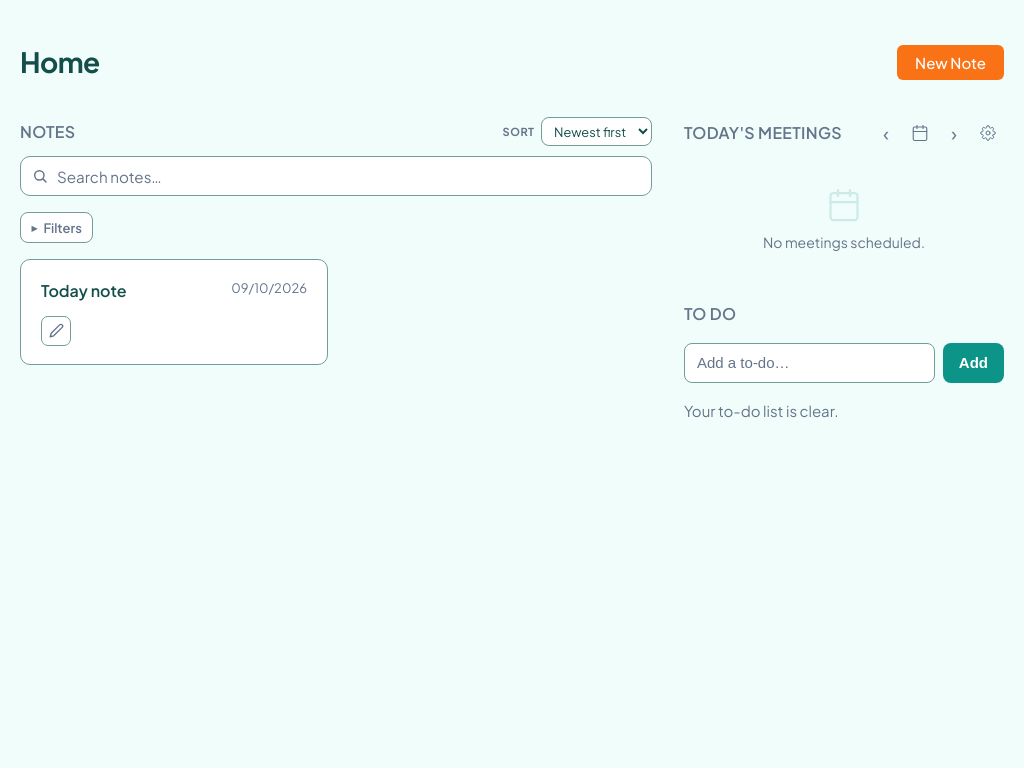
Scenario: 40-B — month grouping › does not group when sorted by title, even across a wide range
This screenshot has width=1024, height=768.
Click the button "▸ Filters": (57, 228) [20,212,93,243]
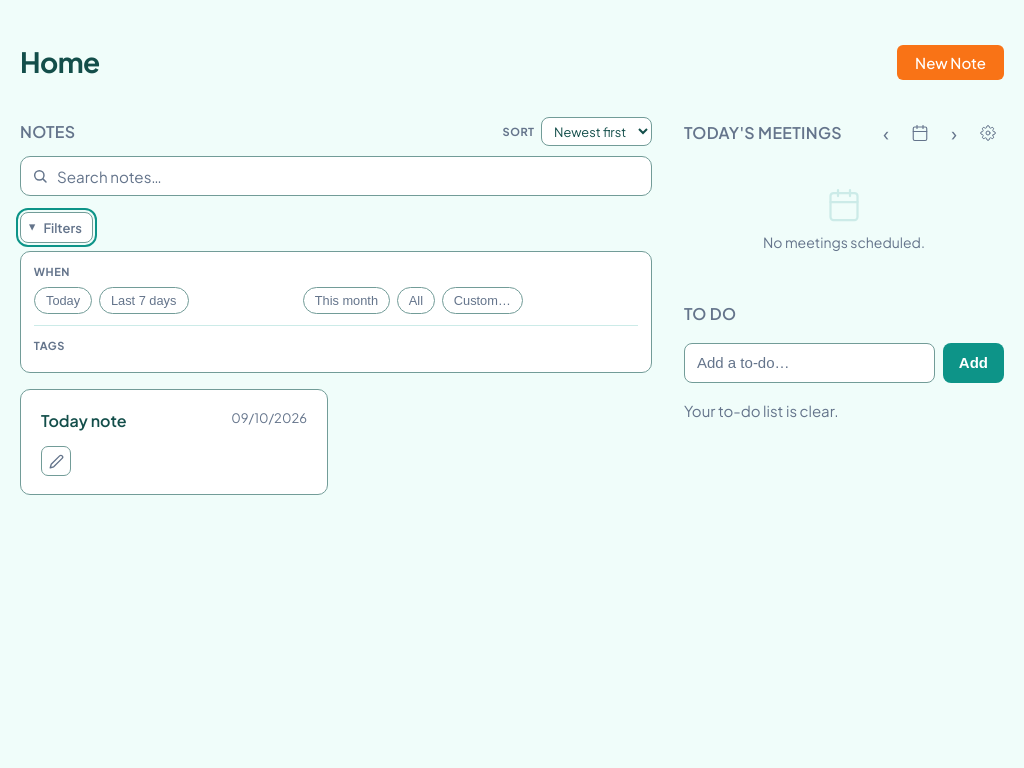
Click the button with test id "range-preset-all": (416, 300) [397,287,435,314]
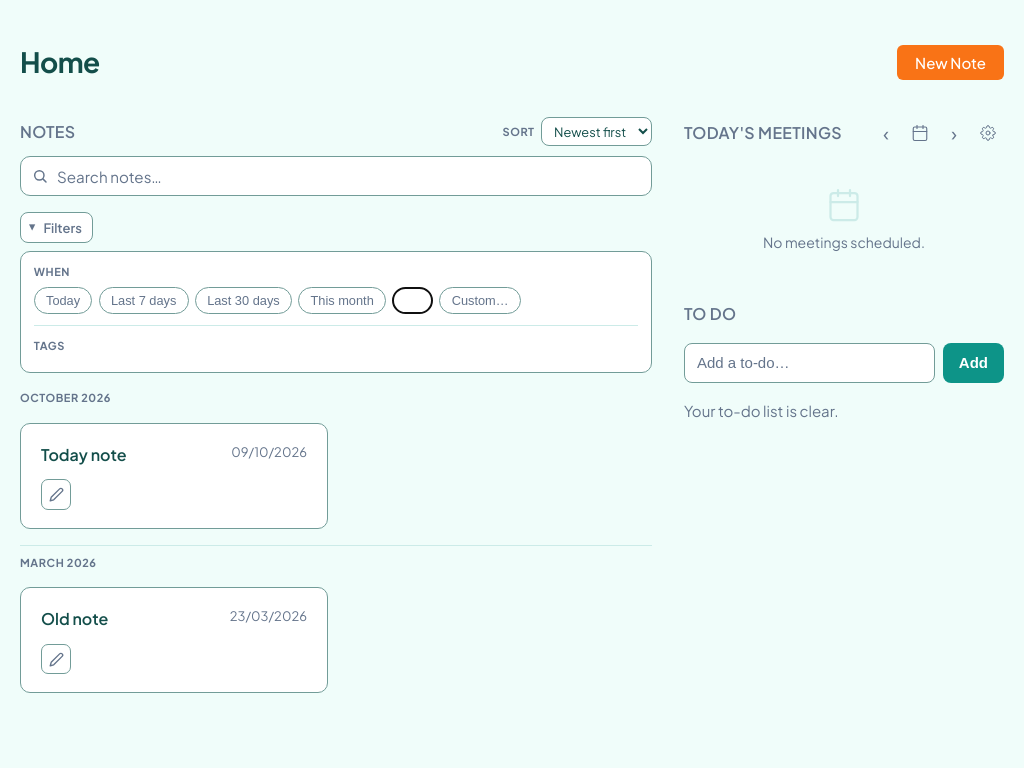
Expected: the heading "Old note" is shown, [41,608,108,629]
Select "Title A–Z" in the dropdown with test id "sort-select": (596, 132) [541,117,652,146]
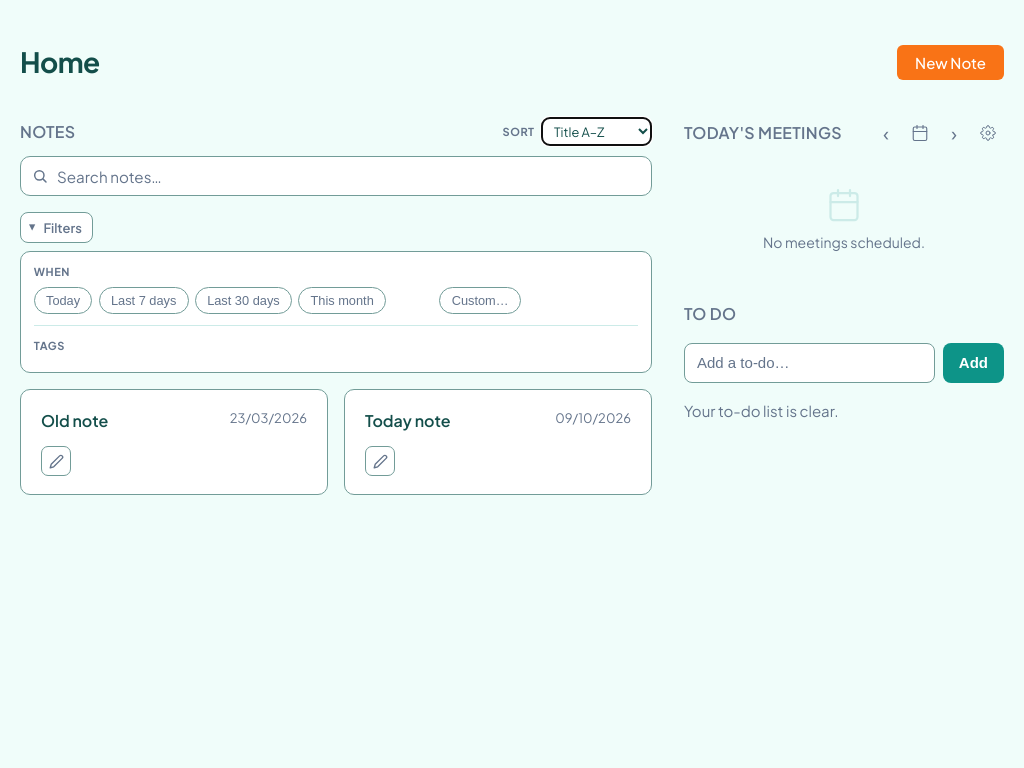
Expected: the text with test id "month-header" is gone
